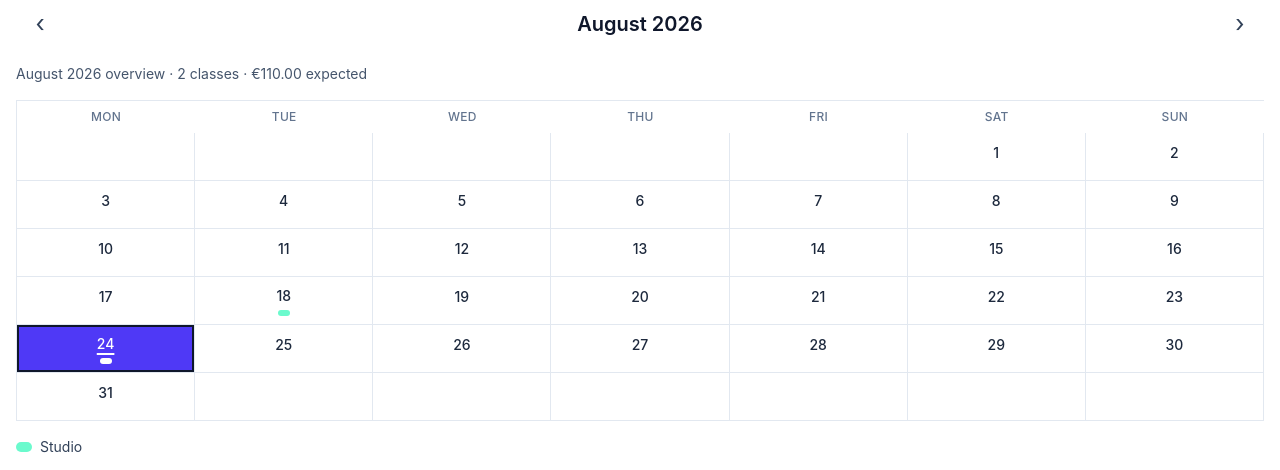
Test case: CalendarTab mobile presentation › names agenda lessons with their complete teaching and income context
Click the button "24". click: point(106, 349)
box: x1=17 y1=325 x2=195 y2=373
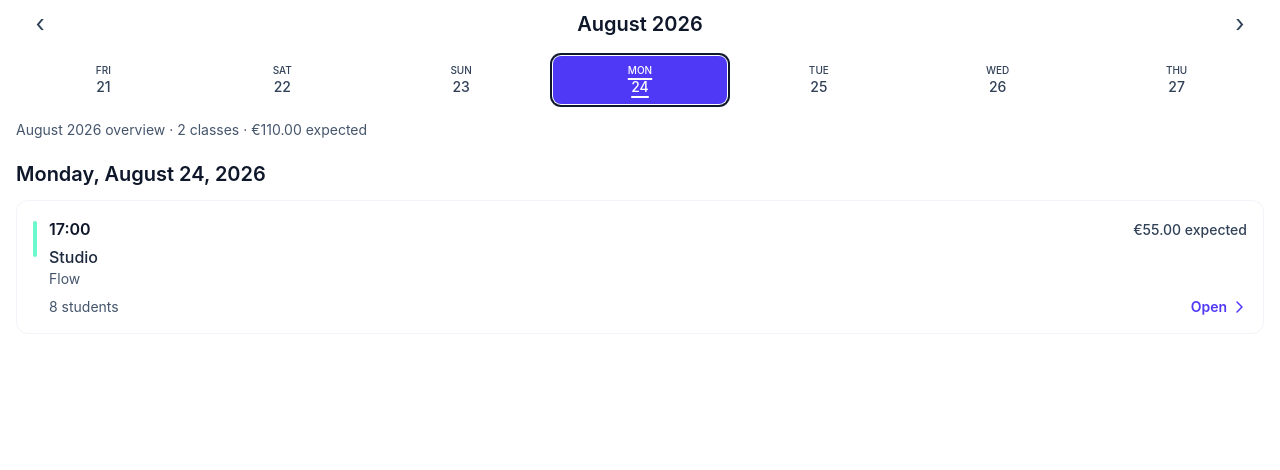
Result: the button "17:00 €55.00 expected Studio Flow 8 students Open" is shown at x1=17 y1=201 x2=1263 y2=333
